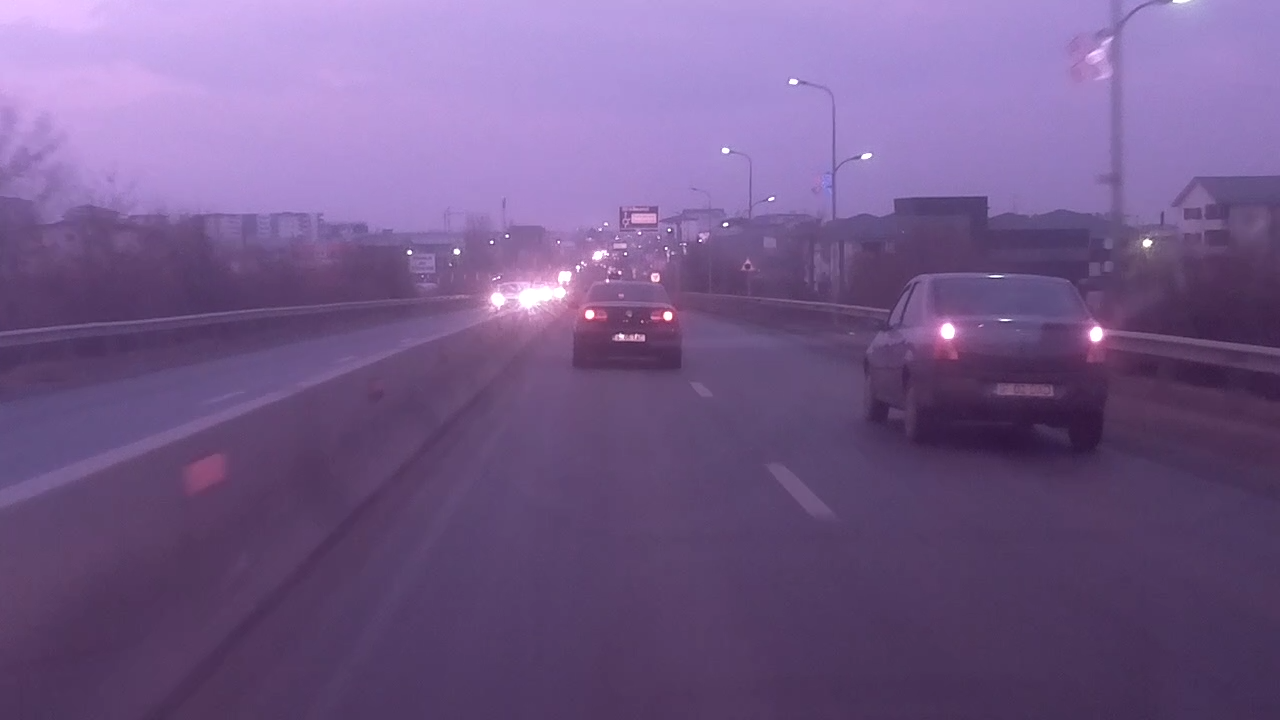license-plate: (990, 380, 1058, 399)
